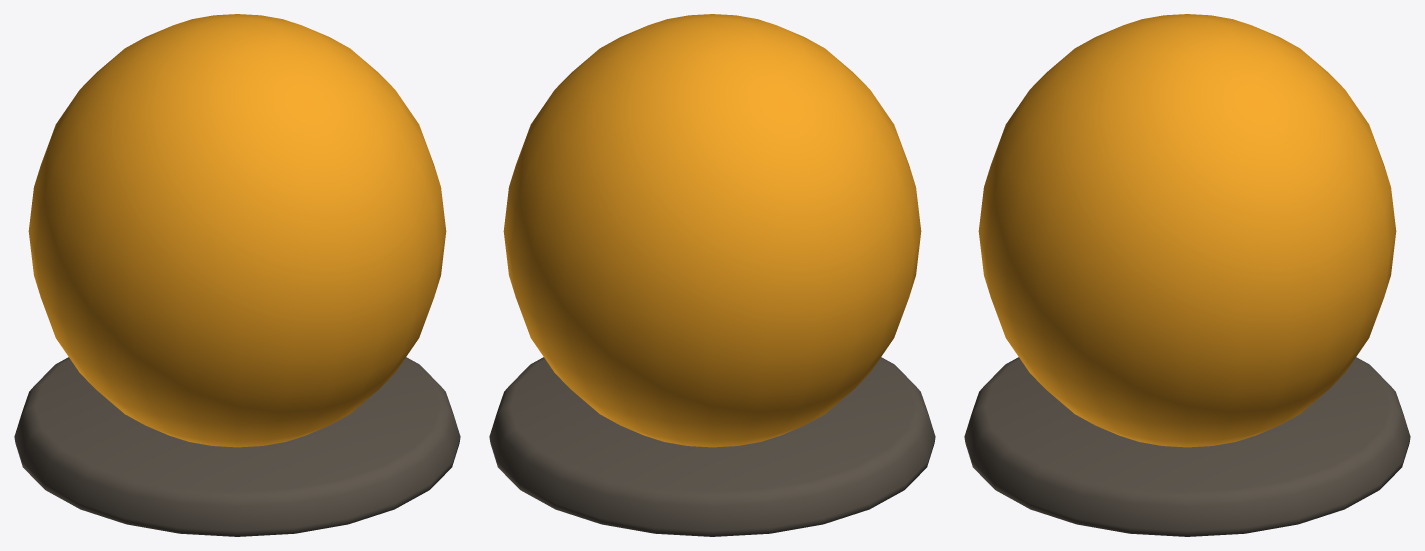
File: lantern.glb
3 renders of one model, left to right at view 1: azimuth 30°, elevation 25°; view 2: azimuth 150°, elevation 25°; view 3: azimuth 270°, elevation 25°, orthographic.
Visible parts, largest first — view 1: Lantern_Glass, Lantern_Iron; view 2: Lantern_Glass, Lantern_Iron; view 3: Lantern_Glass, Lantern_Iron.
Part boxes in pixels (left/top/right/bottom): Lantern_Glass: left=28, top=14, right=446, bottom=447; Lantern_Iron: left=14, top=357, right=460, bottom=536; Lantern_Glass: left=503, top=14, right=921, bottom=447; Lantern_Iron: left=489, top=357, right=935, bottom=536; Lantern_Glass: left=978, top=14, right=1396, bottom=447; Lantern_Iron: left=964, top=357, right=1410, bottom=536.
Bounding box in the file's own units: 0.5128 × 0.524 × 0.5128.
